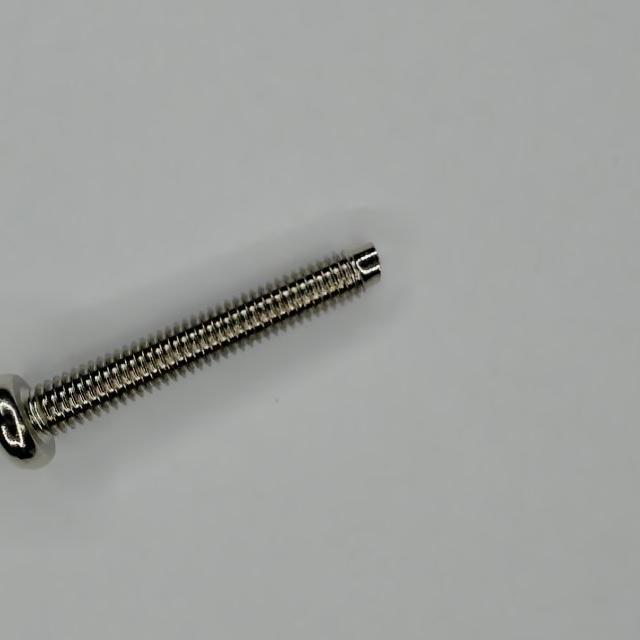Dry Waste: (20, 186, 398, 542)
